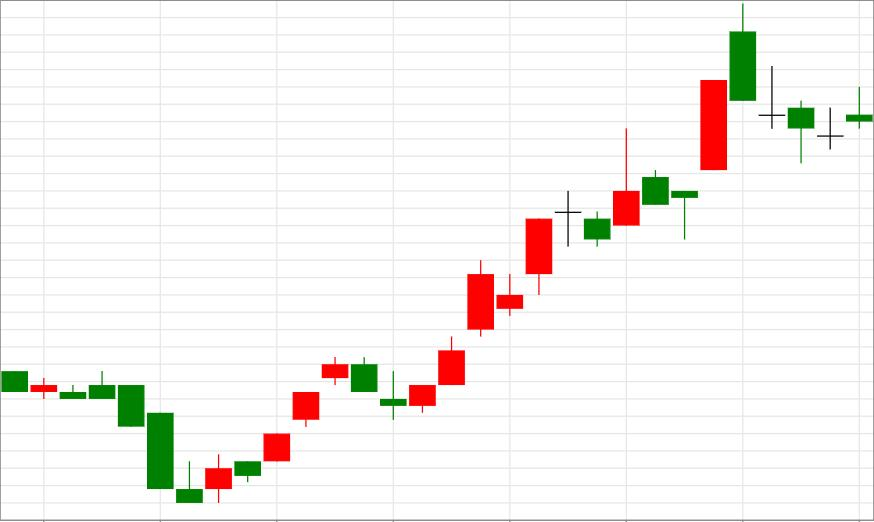shooting_star_fall: (409, 128, 640, 412)
